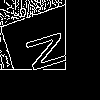N: (24, 26, 78, 74)
